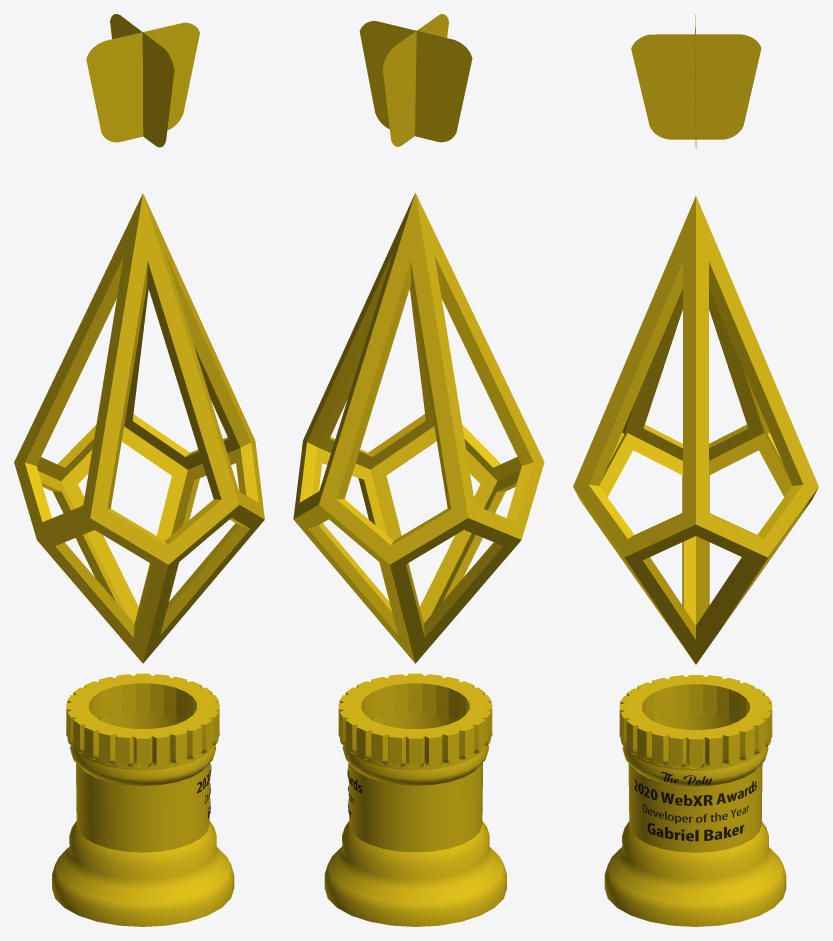
Rendered from 16ae2b7e-6711-4841-bd19-ebdcce8d95c6_DOTY.glb.
3 views of the same model, side by side, from view 1: azimuth 30°, elevation 25°; view 2: azimuth 150°, elevation 25°; view 3: azimuth 270°, elevation 25° (orthographic).
Parts seen in each view (by area): view 1: Diamond, Base, Crown; view 2: Diamond, Base, Crown; view 3: Diamond, Base, Crown, Engravings.
Part boxes in pixels (x1=…): Diamond: x1=14, y1=193, x2=264, y2=663; Base: x1=52, y1=673, x2=234, y2=926; Crown: x1=86, y1=14, x2=199, y2=147; Diamond: x1=293, y1=193, x2=544, y2=663; Base: x1=324, y1=673, x2=506, y2=926; Crown: x1=359, y1=14, x2=472, y2=146; Diamond: x1=573, y1=196, x2=818, y2=664; Base: x1=604, y1=675, x2=786, y2=926; Crown: x1=631, y1=14, x2=761, y2=148; Engravings: x1=634, y1=771, x2=756, y2=841.
Size of the model in its own units: 0.6616 by 2.48 by 0.6471.
Materials: 3 (2 with a texture image).
